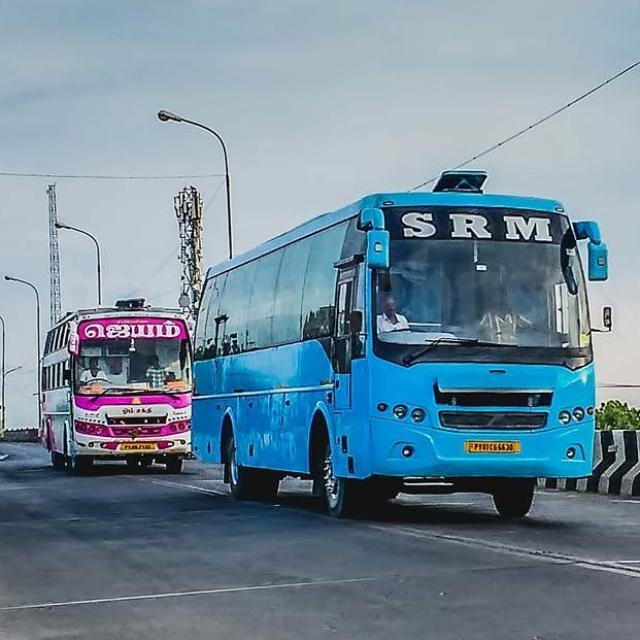Bus: (190, 168, 616, 520), (38, 297, 194, 469)
